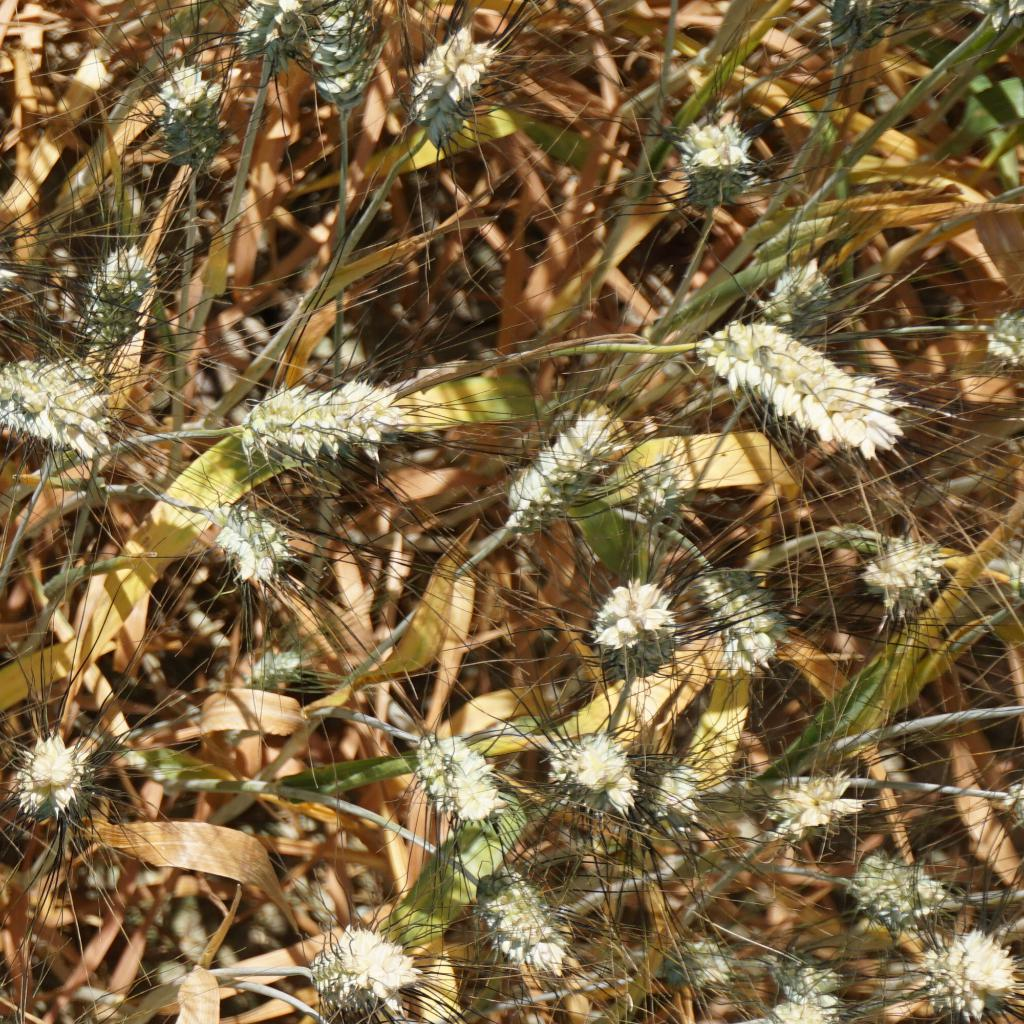0-0: (697, 307, 927, 481), (222, 350, 423, 484), (488, 397, 632, 523), (399, 13, 517, 135), (398, 721, 518, 836), (468, 865, 580, 986), (295, 912, 439, 1006), (0, 350, 120, 457), (662, 94, 762, 220), (911, 918, 1024, 1021), (584, 577, 684, 686), (691, 552, 780, 672), (205, 504, 307, 600), (841, 841, 947, 930), (2, 717, 88, 822), (538, 720, 633, 815), (71, 235, 173, 318), (147, 64, 223, 171), (315, 3, 373, 126), (756, 252, 840, 336), (634, 760, 711, 849), (771, 771, 859, 842), (624, 449, 691, 536), (762, 990, 901, 1024), (863, 544, 941, 604), (663, 930, 737, 988), (245, 0, 295, 71), (836, 0, 898, 57), (245, 641, 315, 689), (783, 954, 838, 1004), (982, 308, 1024, 371), (0, 211, 15, 310)
